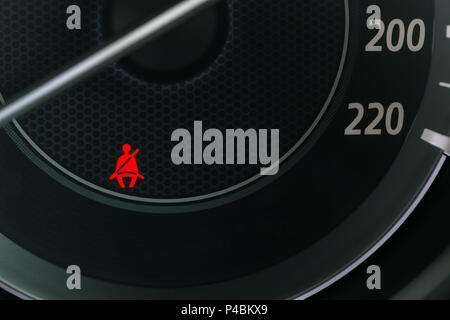Seatbelt_warning: (106, 140, 147, 188)
